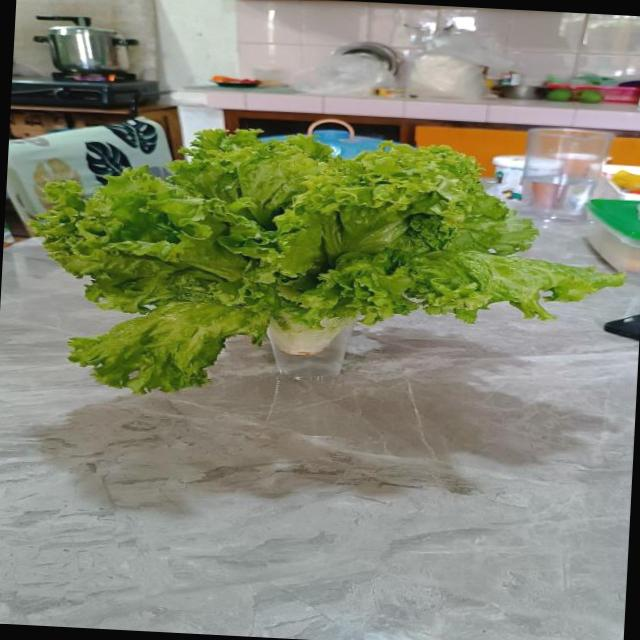Lettuce-Ready-to-Harvest: (32, 130, 623, 392)
